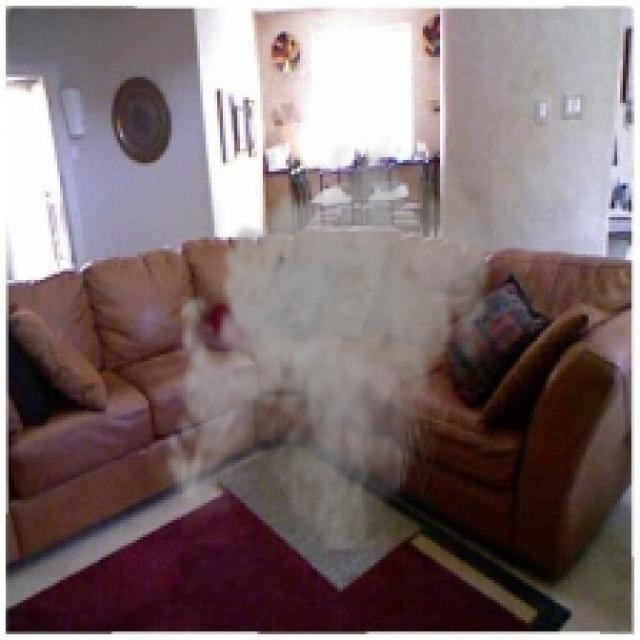smoke: (154, 135, 500, 554)
